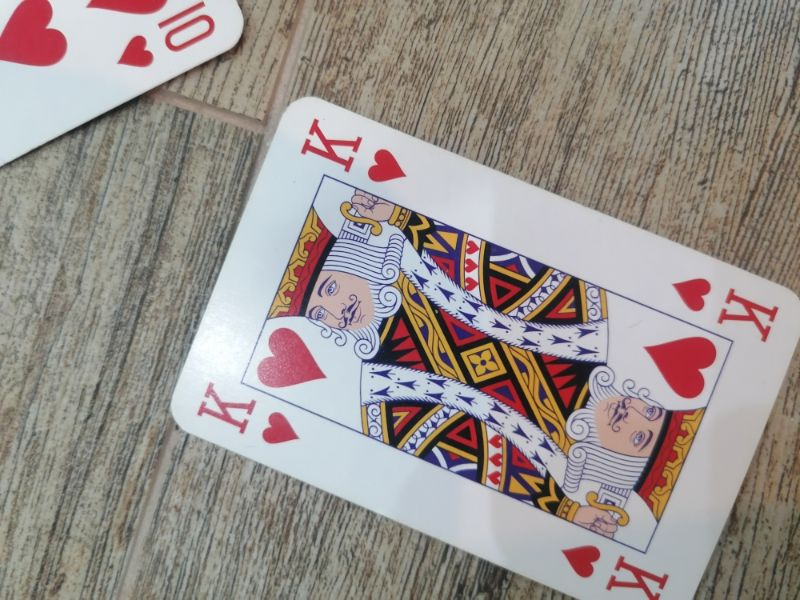Kh: (669, 271, 782, 345), (296, 116, 410, 187), (193, 377, 303, 448), (556, 534, 671, 600)
Th: (115, 1, 225, 71)
